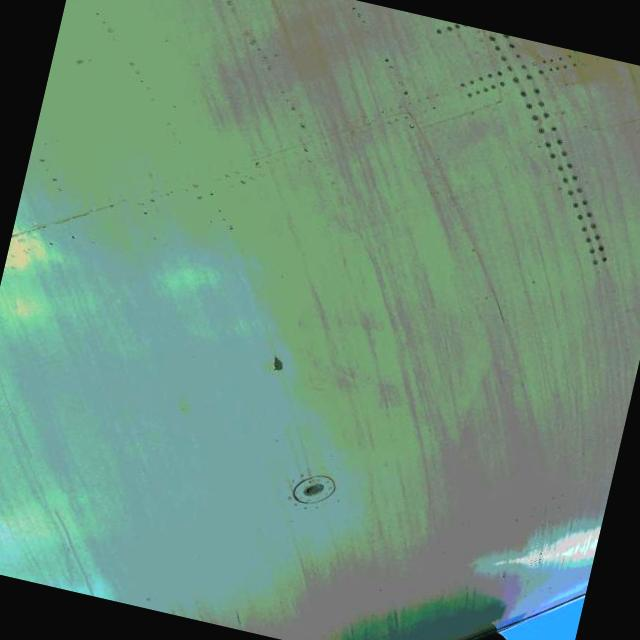crack: (487, 301, 515, 329), (265, 352, 284, 372)
